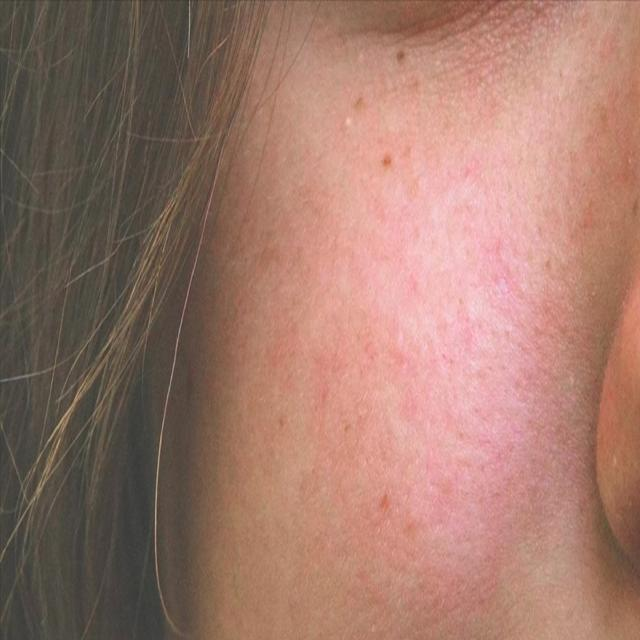Rosacea: (292, 118, 564, 616)
